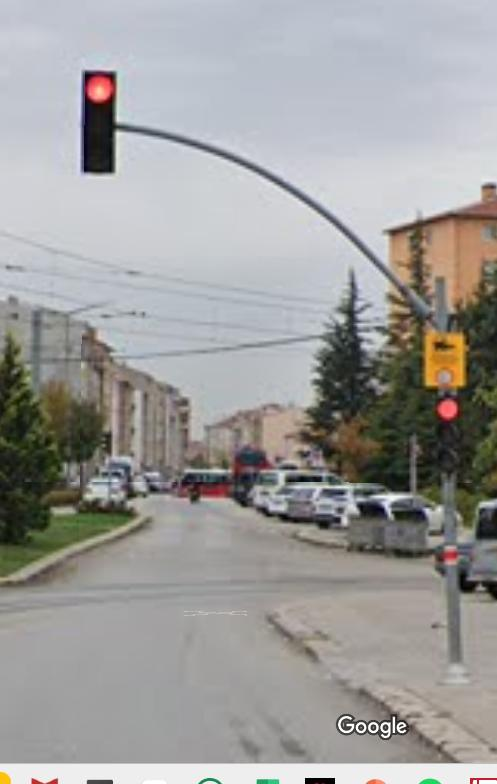redlight: (79, 67, 115, 178), (431, 391, 463, 476)
